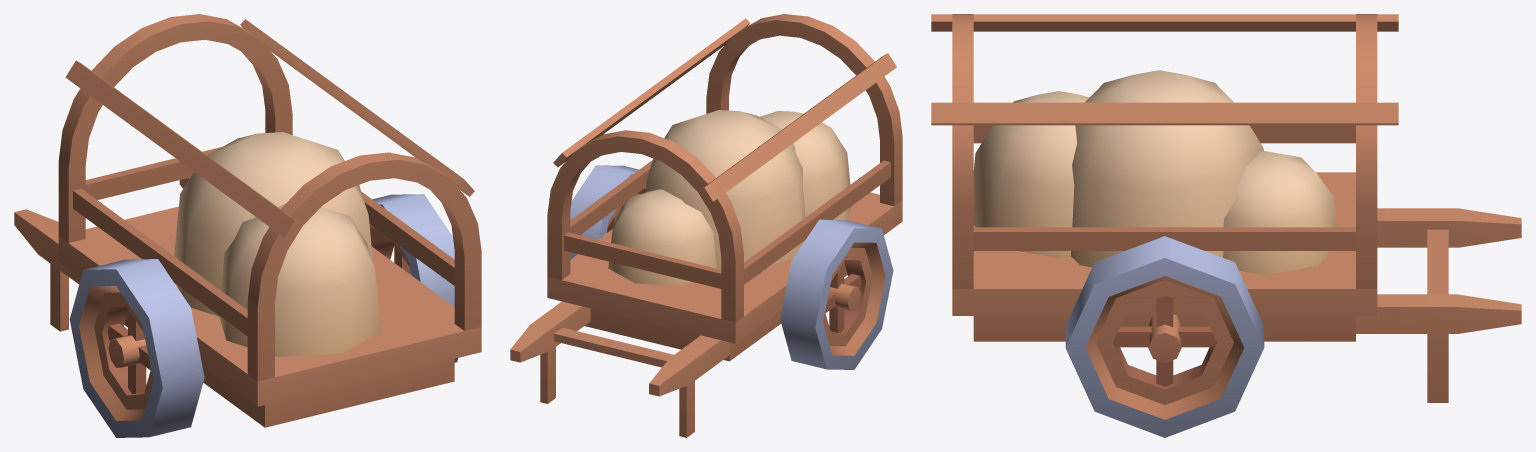
The model's file is cart-high.fbx.
3 renders of one model, left to right at view 1: azimuth 30°, elevation 25°; view 2: azimuth 150°, elevation 25°; view 3: azimuth 270°, elevation 25°, orthographic. The views are drawn at different scales.
Visible parts, largest first — view 1: cart-high, Group, Group_1; view 2: cart-high, Group, Group_1; view 3: cart-high, Group_1.
Part boxes in pixels (x1,y1,x2,y2): cart-high: (14, 14, 481, 427); Group: (69, 259, 204, 437); Group_1: (369, 194, 457, 362); cart-high: (510, 14, 902, 437); Group: (780, 219, 893, 369); Group_1: (570, 165, 645, 259); cart-high: (931, 14, 1521, 402); Group_1: (1065, 236, 1264, 437).
Bounding box in the file's own units: 89.3 × 86.05 × 139.
Materials: 1 (1 with a texture image).
